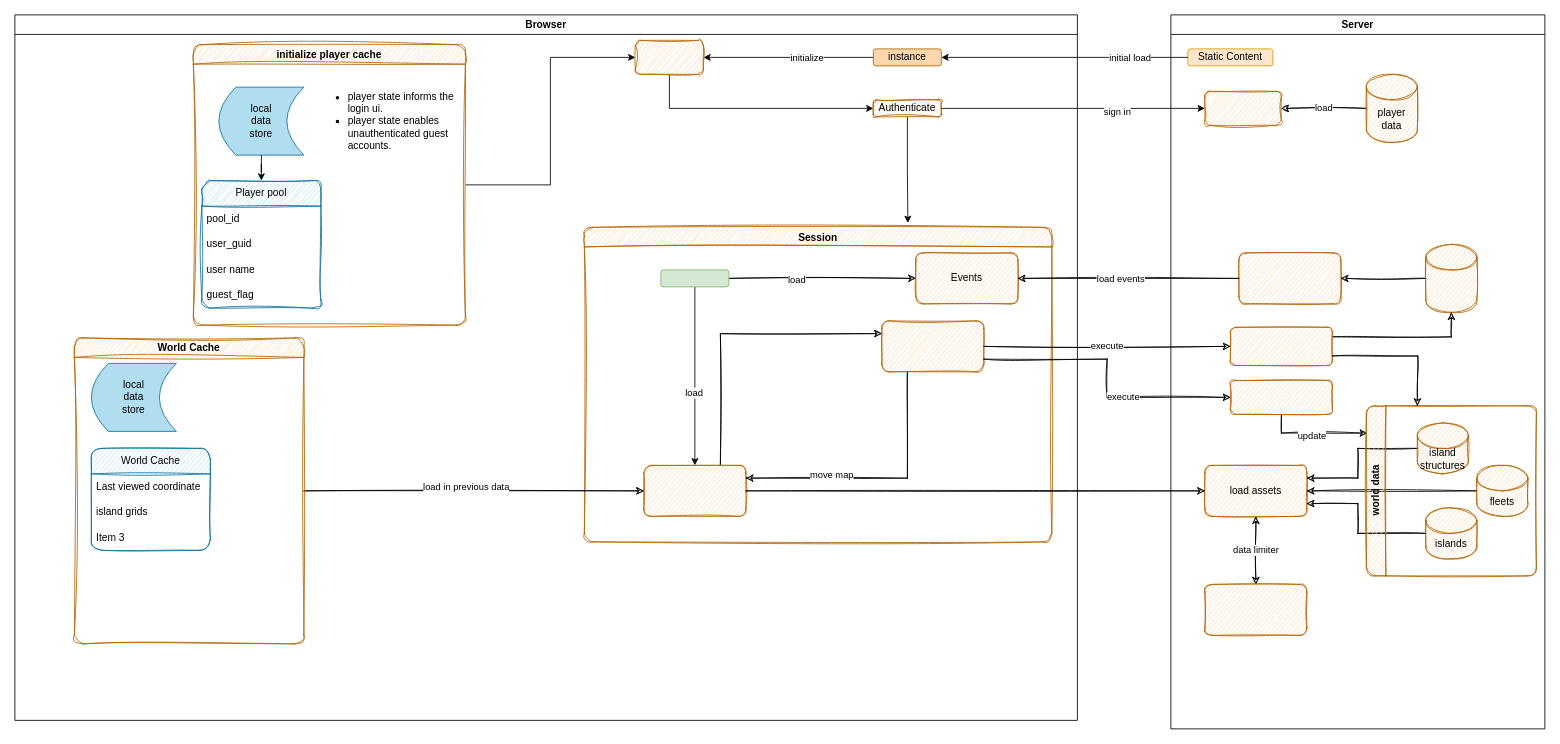
The diagram is 1560 pixels wide and 744 high, and some of its shapes have lost their labels. The centre of each missing label's shape, as x and y in pixels:
attack/trade/spy: [1281,346]
build/move/upgrade/downgrade: [1281,397]
Establish session: [1242,108]
events api: [1289,278]
Player: [694,278]
Player Actions: [932,346]
restore player state: [669,57]
User behavior log: [1255,609]
world event queue: [1451,278]
world map: [694,490]
